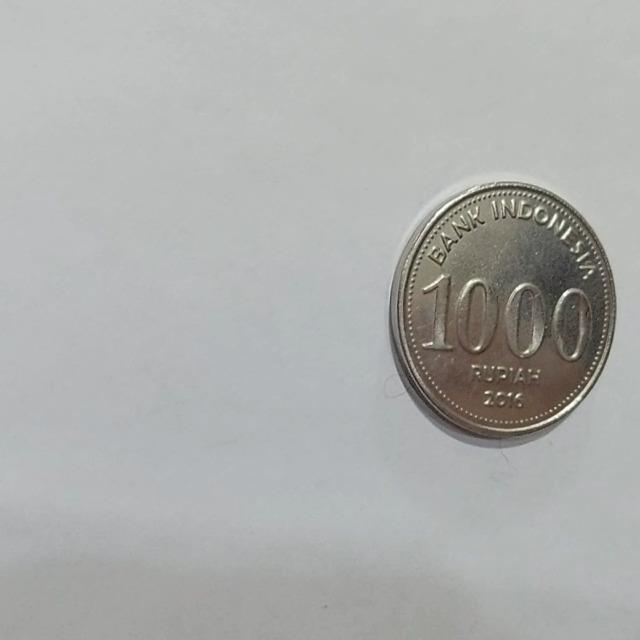Rp100: (387, 177, 618, 445)
